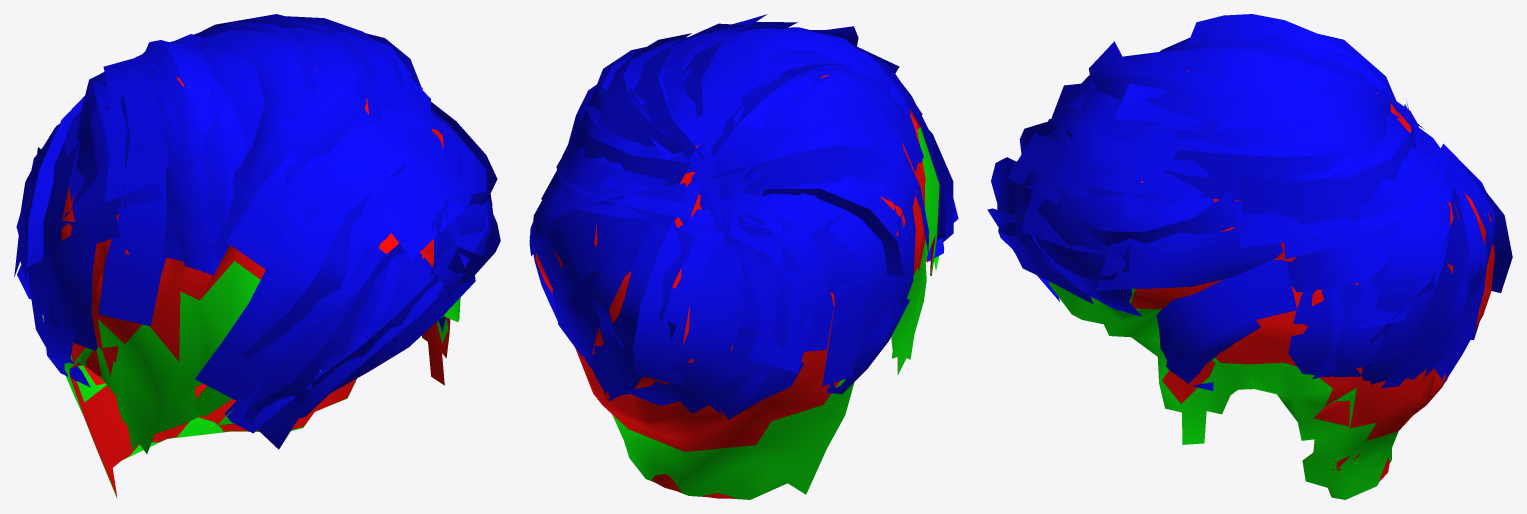
File: hair_004.obj
3 renders of one model, left to right at view 1: azimuth 30°, elevation 25°; view 2: azimuth 150°, elevation 25°; view 3: azimuth 270°, elevation 25°, orthographic. The views are drawn at different scales.
Bounding box in the file's own units: 19.4 × 22.37 × 24.77.
